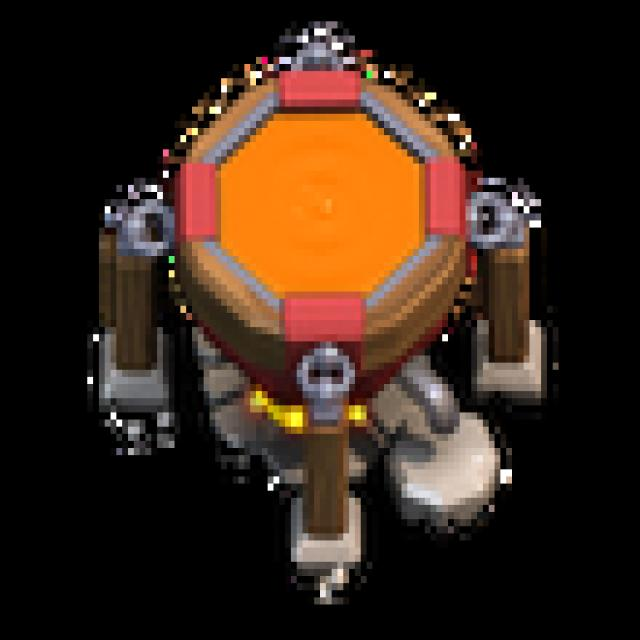dark_spell_factory: (81, 21, 585, 602)
